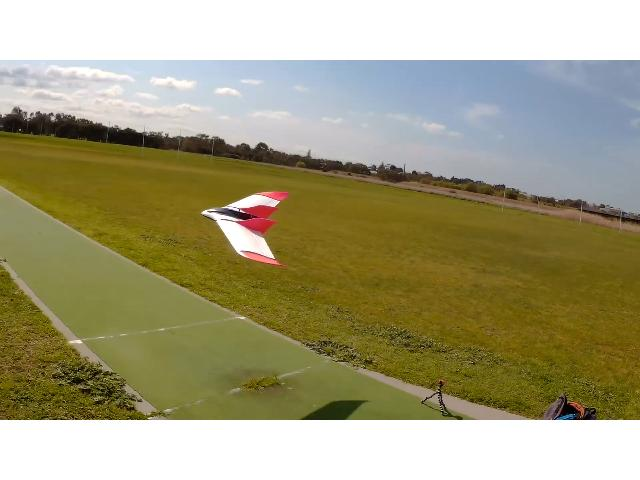Anti-Drone: (202, 190, 288, 268)
